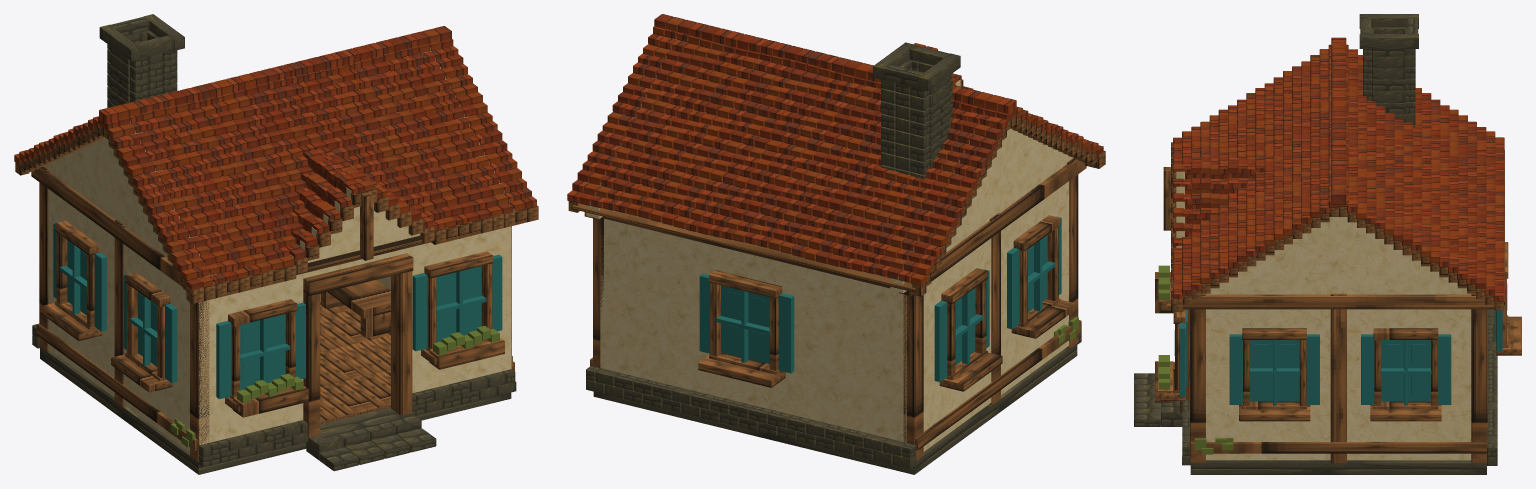
File: SM_HP_Cottage_LOD0.fbx
The picture shows the model from 3 angles, left to right: view 1: azimuth 30°, elevation 25°; view 2: azimuth 150°, elevation 25°; view 3: azimuth 270°, elevation 25°; orthographic projection. The views are drawn at different scales.
Parts seen in each view (by area): view 1: SM_HP_Cottage_LOD0; view 2: SM_HP_Cottage_LOD0; view 3: SM_HP_Cottage_LOD0.
Boxes of the visible parts, x1,y1,x2,y2 form: SM_HP_Cottage_LOD0: [14, 14, 538, 474]; SM_HP_Cottage_LOD0: [567, 14, 1105, 474]; SM_HP_Cottage_LOD0: [1134, 14, 1521, 474].
Size of the model in its own units: 5.76 by 5.76 by 5.39.
Materials: 8 (4 with a texture image).
